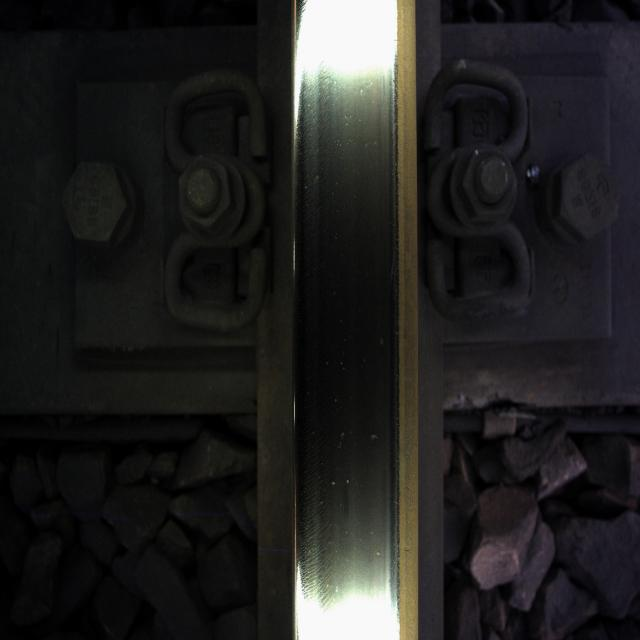break: (300, 31, 385, 610)
